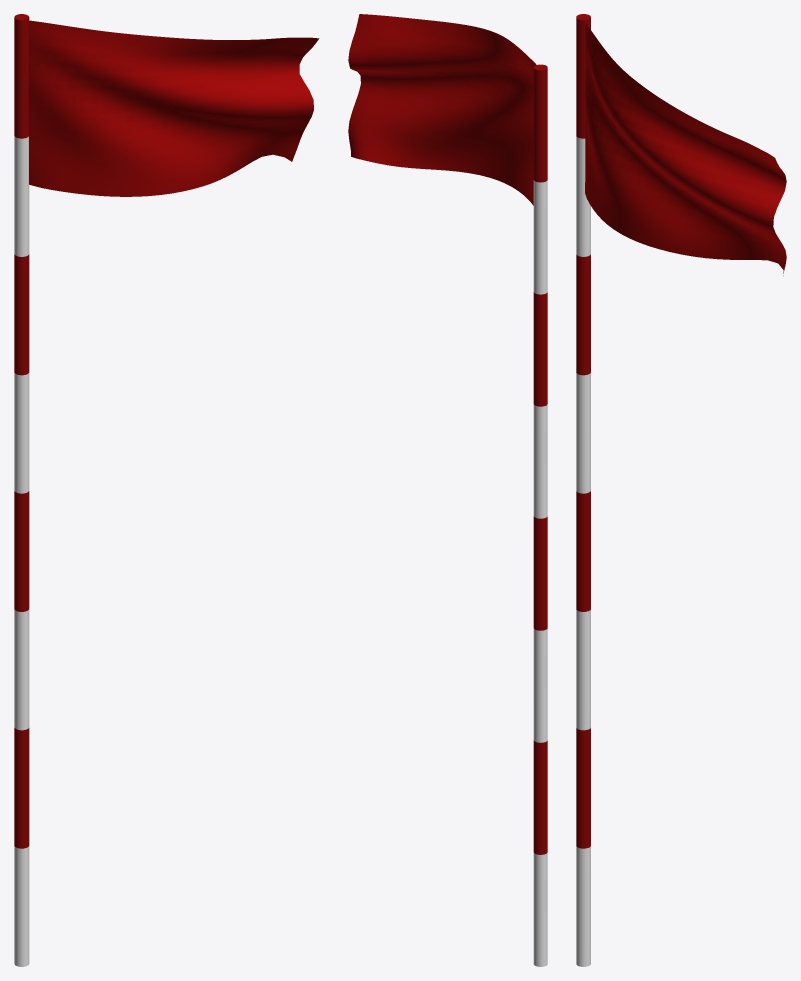
File: Flag_Smooth.FBX
The picture shows the model from 3 angles, left to right: view 1: azimuth 30°, elevation 25°; view 2: azimuth 150°, elevation 25°; view 3: azimuth 330°, elevation 25°; orthographic projection. The views are drawn at different scales.
Visible parts, largest first — view 1: Flag, Pole; view 2: Flag, Pole; view 3: Flag, Pole.
Part boxes in pixels (x1,y1,x2,y2): Flag: [29, 20, 319, 196]; Pole: [14, 14, 29, 966]; Flag: [348, 14, 536, 205]; Pole: [533, 64, 547, 966]; Flag: [585, 23, 786, 275]; Pole: [576, 14, 590, 966].
Size of the model in its own units: 82.21 by 296 by 32.21.
